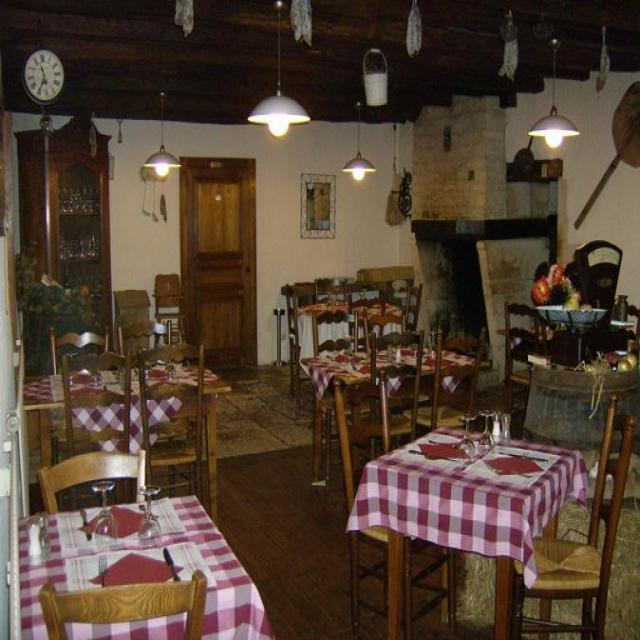clock: (21, 48, 64, 106)
cupboard: (13, 114, 113, 368)
door: (178, 155, 256, 369)
glass: (91, 480, 118, 545), (137, 483, 161, 548)
lamps: (246, 0, 310, 138), (527, 38, 580, 148), (142, 90, 182, 178)
pots: (362, 48, 387, 106)
table: (348, 422, 588, 638), (17, 492, 275, 638), (22, 362, 231, 518)
windows: (300, 172, 335, 238)
